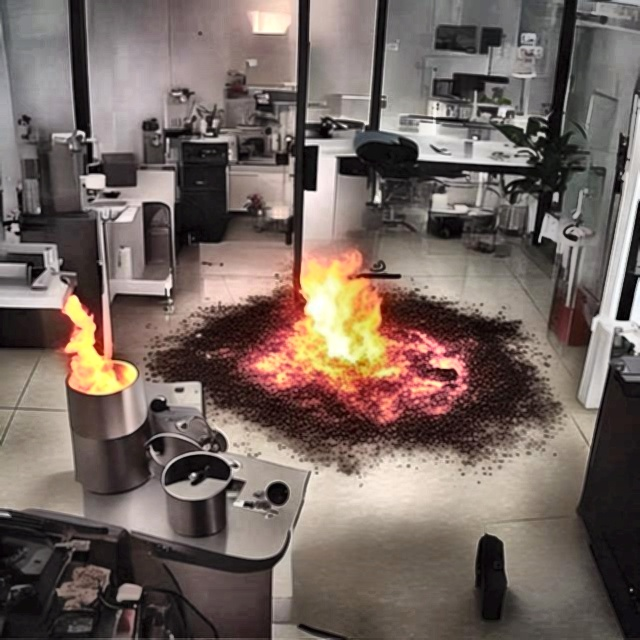fire: (260, 244, 457, 433), (43, 271, 146, 423)
